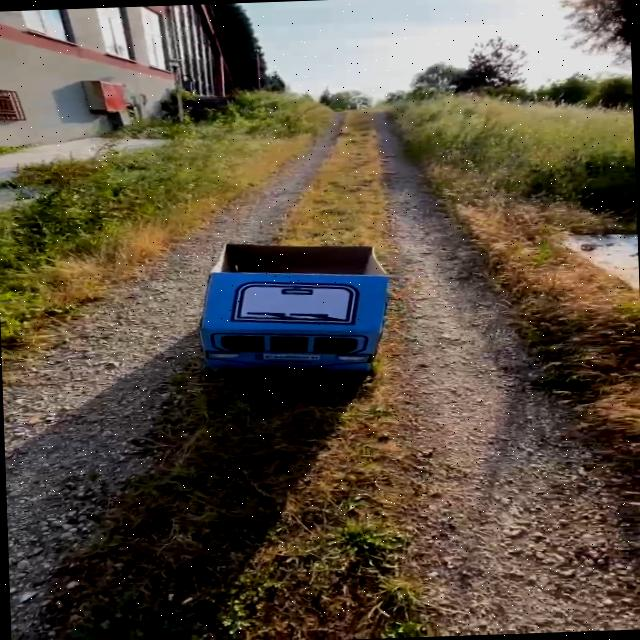blue_car: (153, 209, 436, 387)
